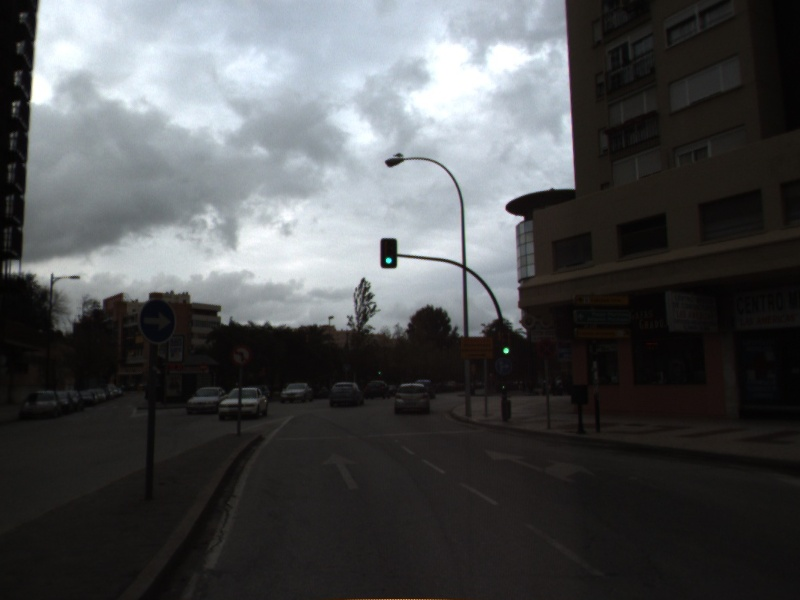STRAIGHT: (319, 450, 363, 491)
STRAIGHT_RIGHT: (482, 446, 598, 486)
